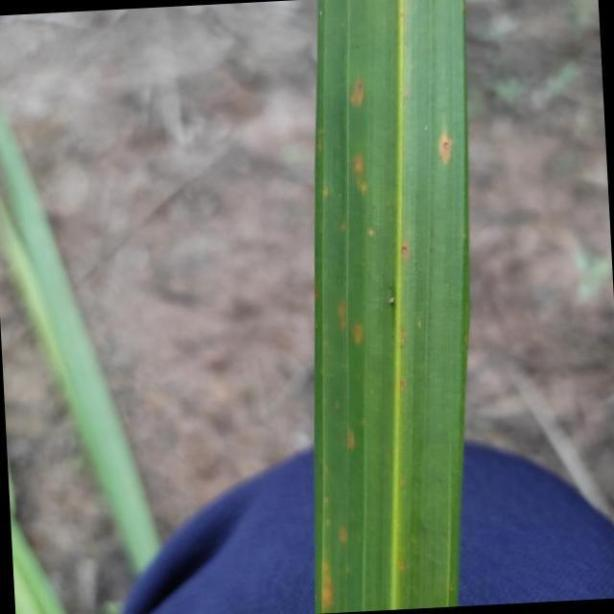Kalium: (310, 0, 470, 614)
